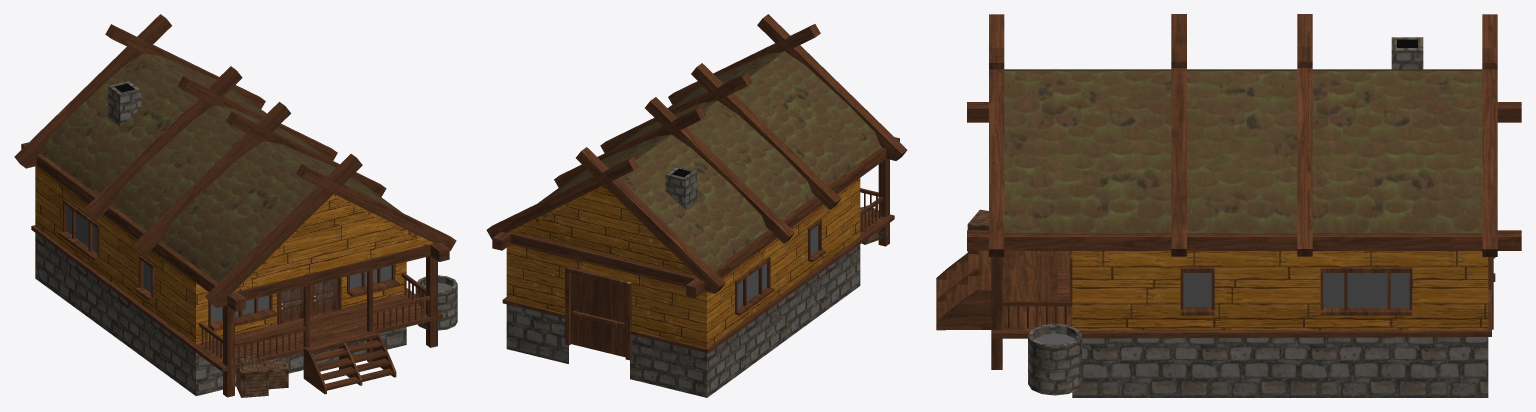
File: casaMedieval.obj
3 views of the same model, side by side, from view 1: azimuth 30°, elevation 25°; view 2: azimuth 150°, elevation 25°; view 3: azimuth 270°, elevation 25° (orthographic). The views are drawn at different scales.
Visible parts, largest first — view 1: L1_2x3_Detached_meshId0_name; view 2: L1_2x3_Detached_meshId0_name; view 3: L1_2x3_Detached_meshId0_name.
Part boxes in pixels (x1,y1,x2,y2): L1_2x3_Detached_meshId0_name: [14, 14, 457, 397]; L1_2x3_Detached_meshId0_name: [486, 14, 907, 397]; L1_2x3_Detached_meshId0_name: [936, 14, 1521, 397].
Size of the model in its own units: 5.93 by 4.87 by 8.57.
